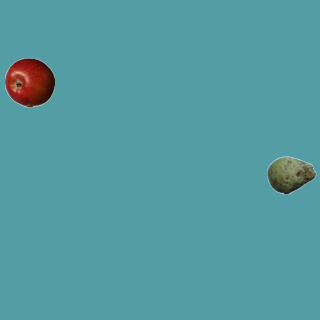Apple Braeburn: (4, 57, 54, 107)
Pear Stone: (266, 150, 316, 200)
